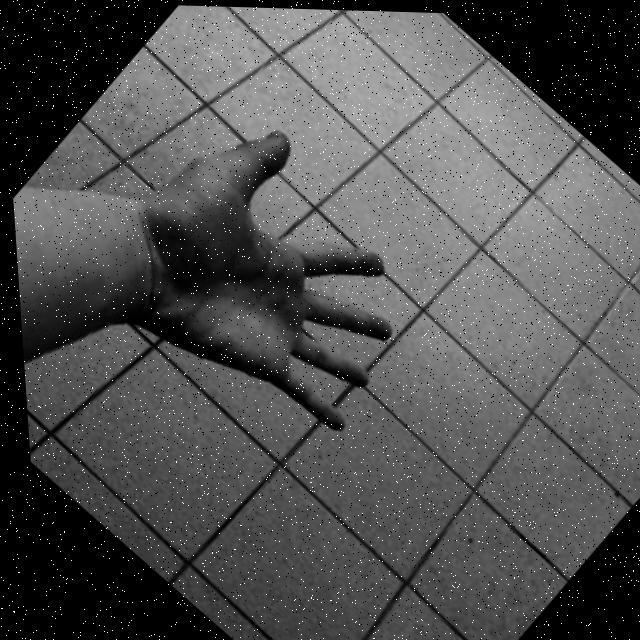no-gloves: (55, 69, 484, 484)
